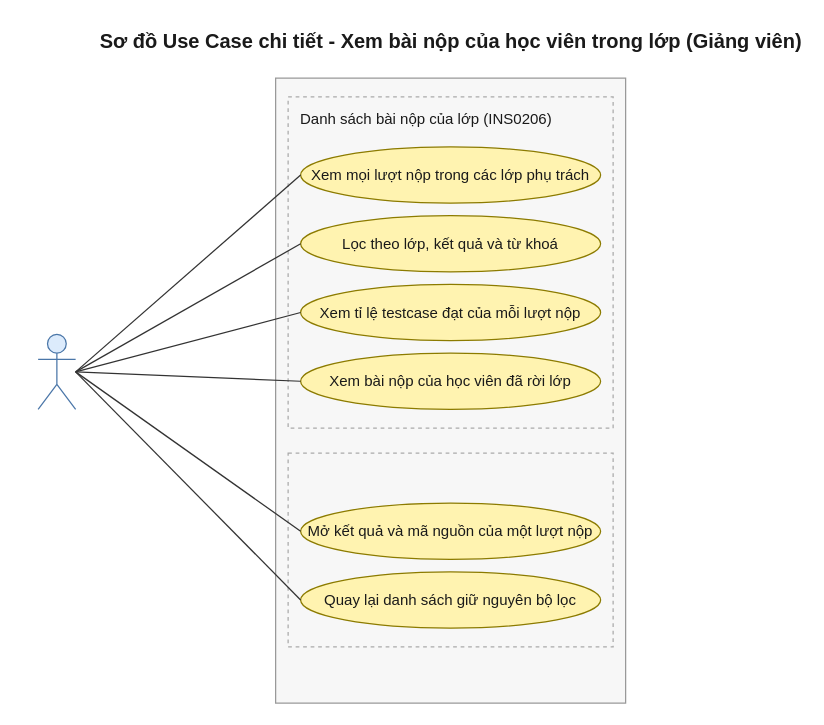
The diagram is 824 pixels wide and 725 high, and some of its shapes have lost their labels. Here are the shapes that lost their labels. From the top down, the box of each, then its label:
(37, 333, 76, 409): Giảng viên
(274, 77, 626, 703): Xem bài nộp của lớp
(287, 452, 613, 647): Đọc một bài nộp (chỉ đọc)
